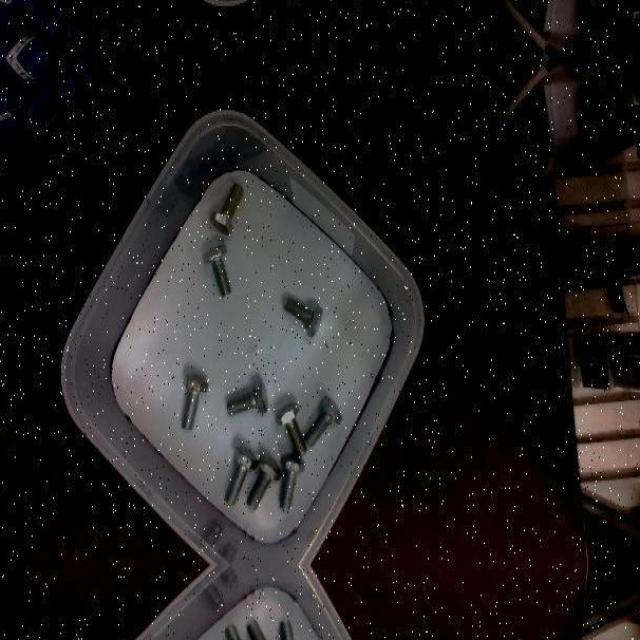screw: (247, 453, 283, 511), (305, 395, 343, 447), (225, 446, 259, 504), (276, 402, 310, 458), (210, 182, 244, 235), (284, 297, 323, 337), (203, 244, 232, 297), (182, 374, 209, 430), (280, 454, 306, 511), (227, 380, 268, 416), (247, 618, 283, 640), (281, 620, 307, 640), (225, 625, 259, 640)
